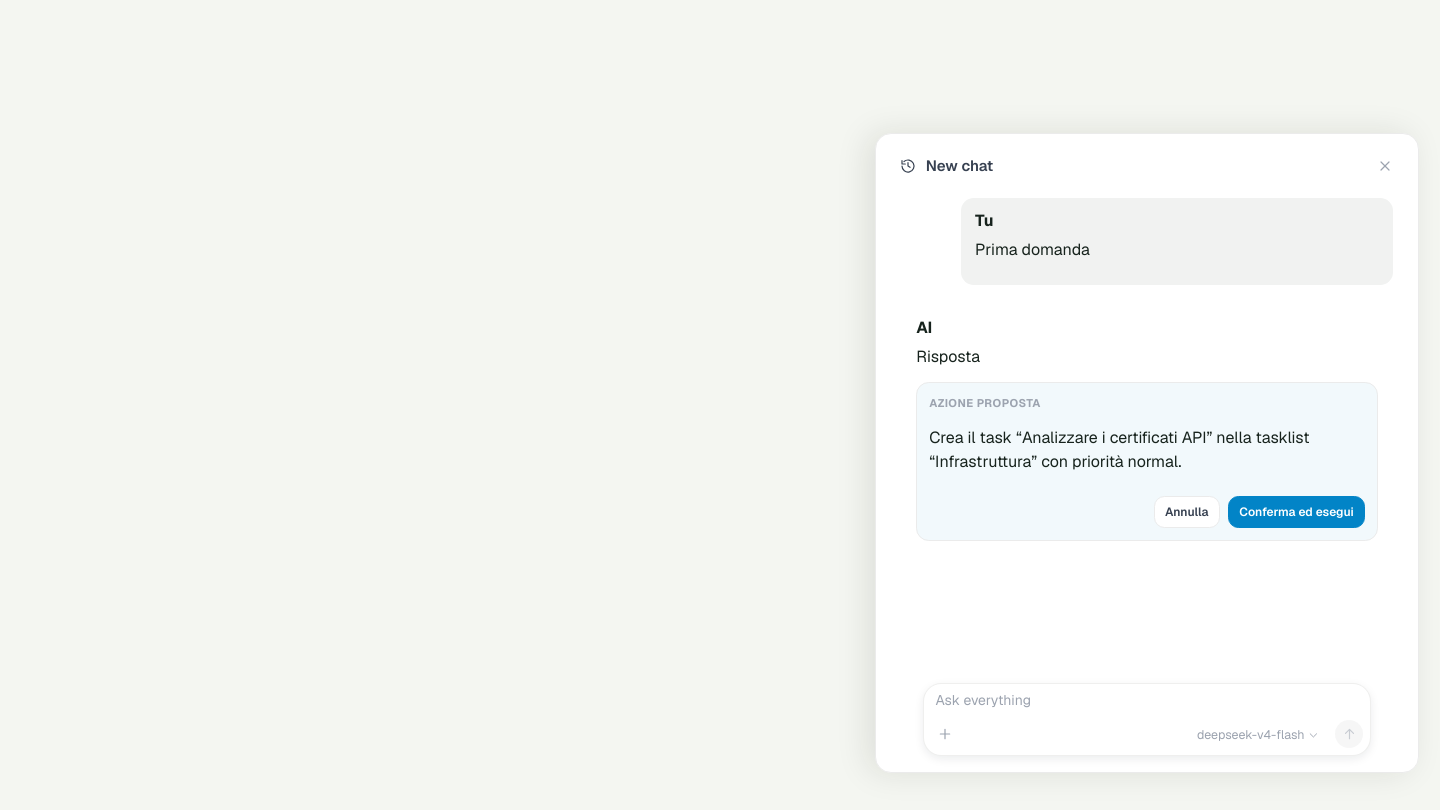
WorkspaceAiChat composer › executes only the exact proposed action after one-shot confirmation
Click the button "Conferma ed esegui" at {"x": 1297, "y": 512}, box x1=1228 y1=496 x2=1365 y2=528
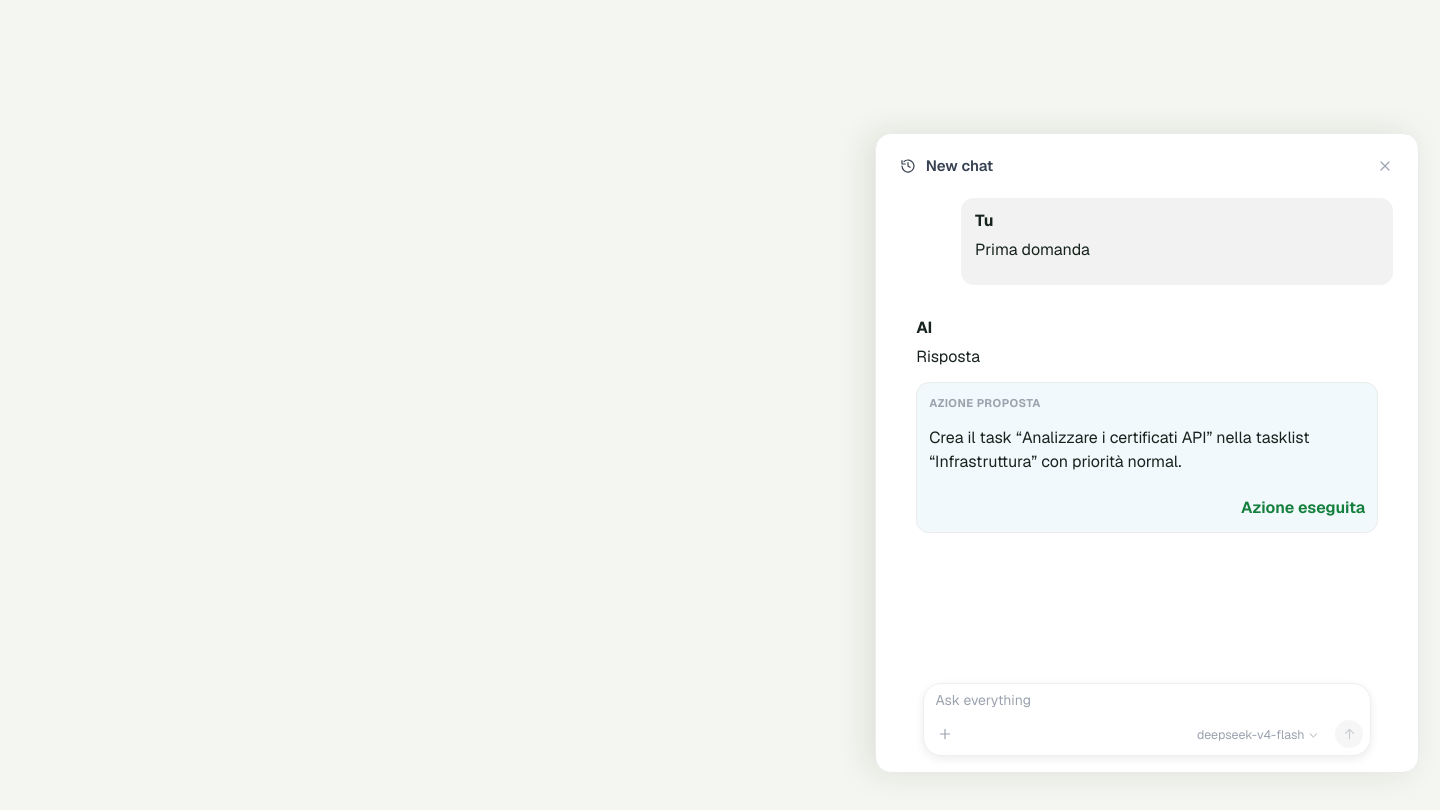
Check: the text "Azione eseguita" is shown, box x1=1241 y1=496 x2=1365 y2=520
